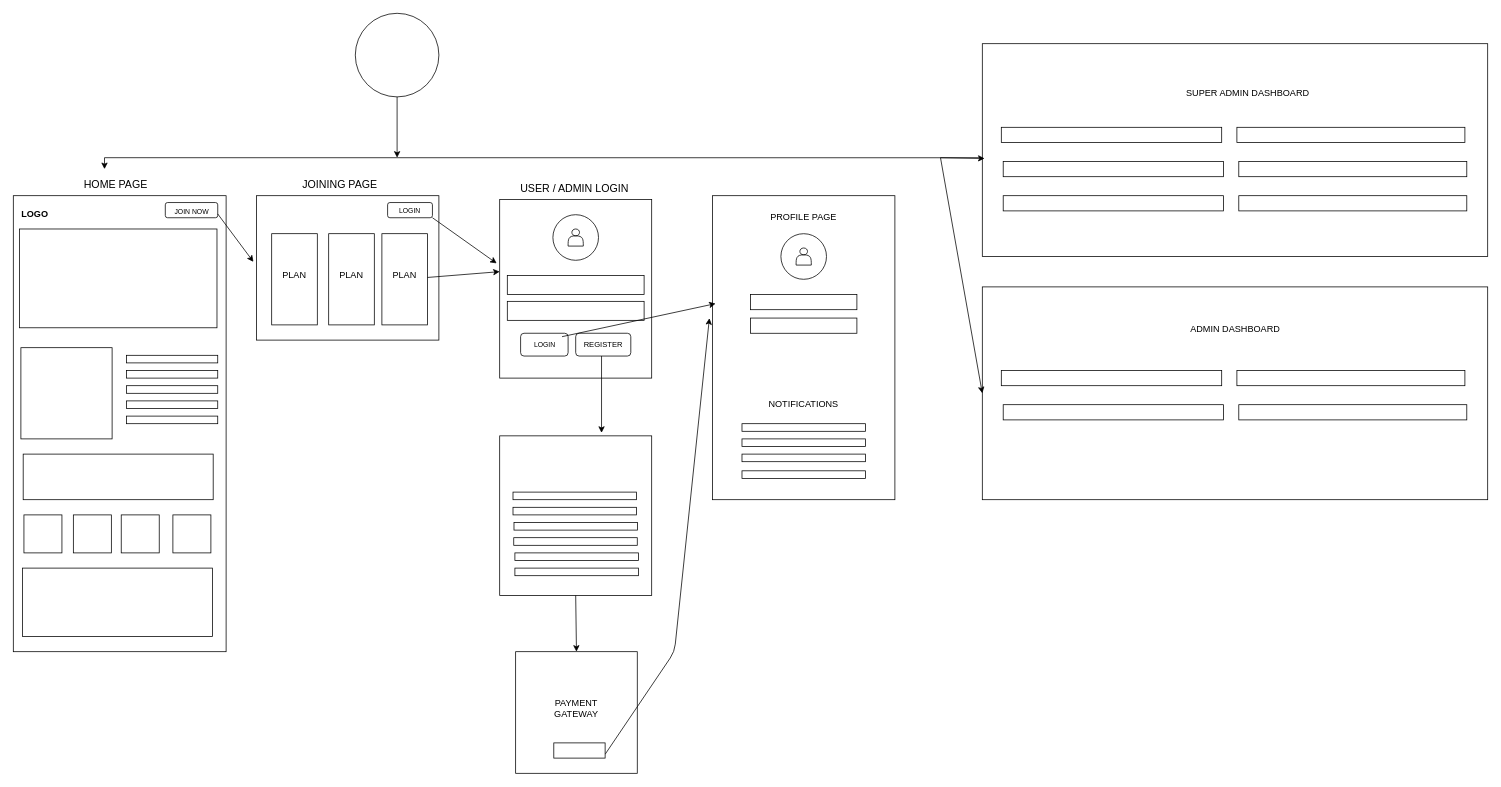
Some shapes in this 1501 by 787 pixel diagram are drawn without their labels. Here are the shapes that lost their labels. From the top down, the centre of each, then its label:
pixel 397 55: AKEF Website
pixel 118 278: BANNER
pixel 575 515: REGISTRATION FORM
pixel 579 750: SUBMIT
